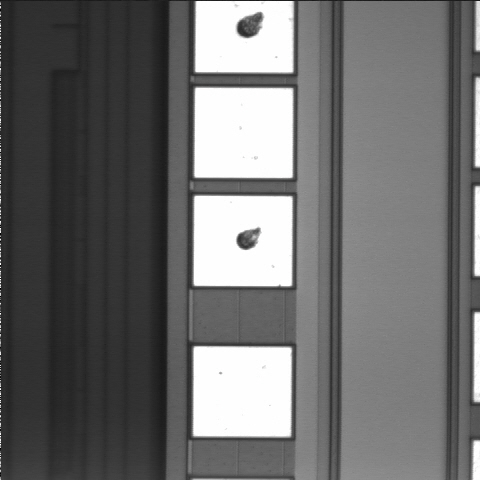pad: (193, 346, 291, 437), (194, 88, 293, 178), (194, 196, 292, 286)
